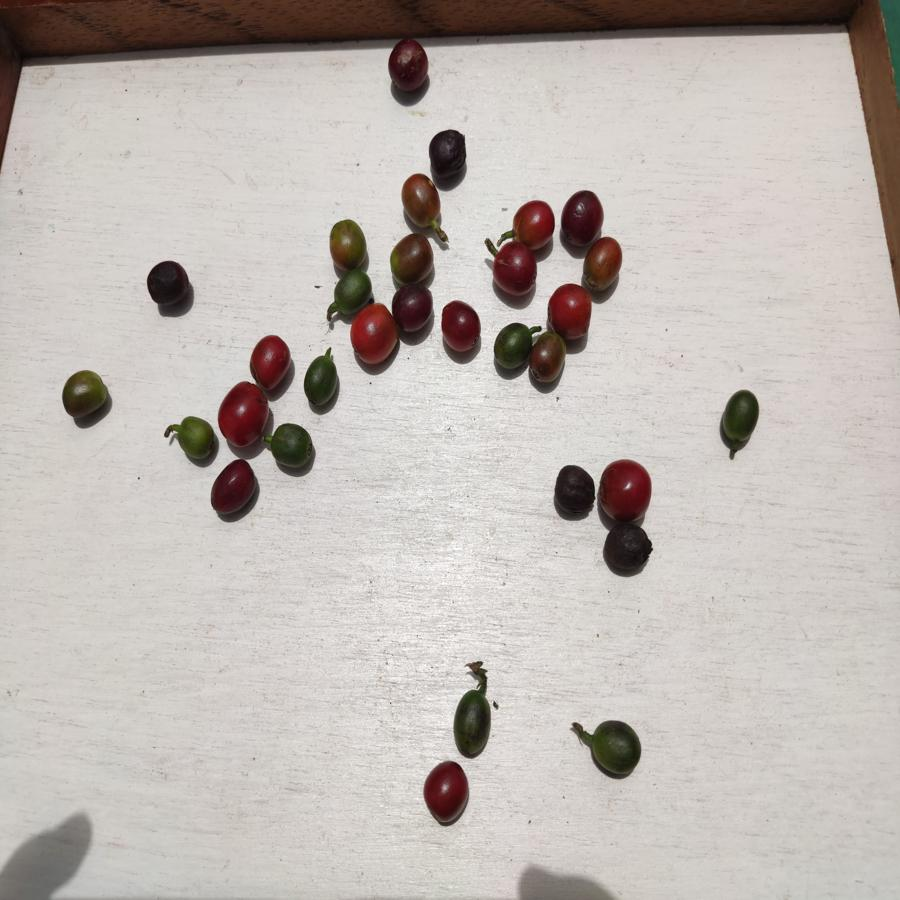Inmaduro: (587, 718, 642, 781), (452, 687, 494, 761), (721, 389, 760, 446), (172, 416, 217, 463), (271, 422, 313, 471), (492, 321, 528, 373), (303, 355, 339, 406), (331, 270, 371, 312)
Maduro: (597, 459, 651, 522), (216, 383, 268, 443), (350, 305, 397, 366), (547, 282, 593, 340), (247, 334, 290, 392), (509, 200, 556, 245)
Pinton: (387, 234, 437, 285), (399, 175, 442, 229), (328, 217, 368, 271), (586, 237, 623, 293), (531, 335, 567, 389)
Sobremaduro: (421, 762, 474, 826), (209, 458, 258, 520), (602, 521, 653, 571), (491, 245, 539, 298), (552, 463, 596, 519), (387, 36, 429, 92), (440, 301, 482, 355), (146, 260, 194, 304), (429, 128, 467, 179), (393, 285, 433, 333), (560, 190, 603, 234)
